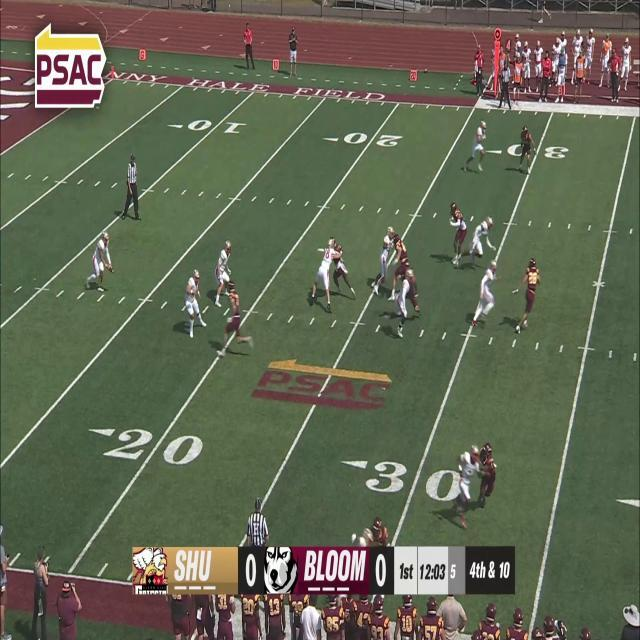football: (109, 262, 114, 272)
